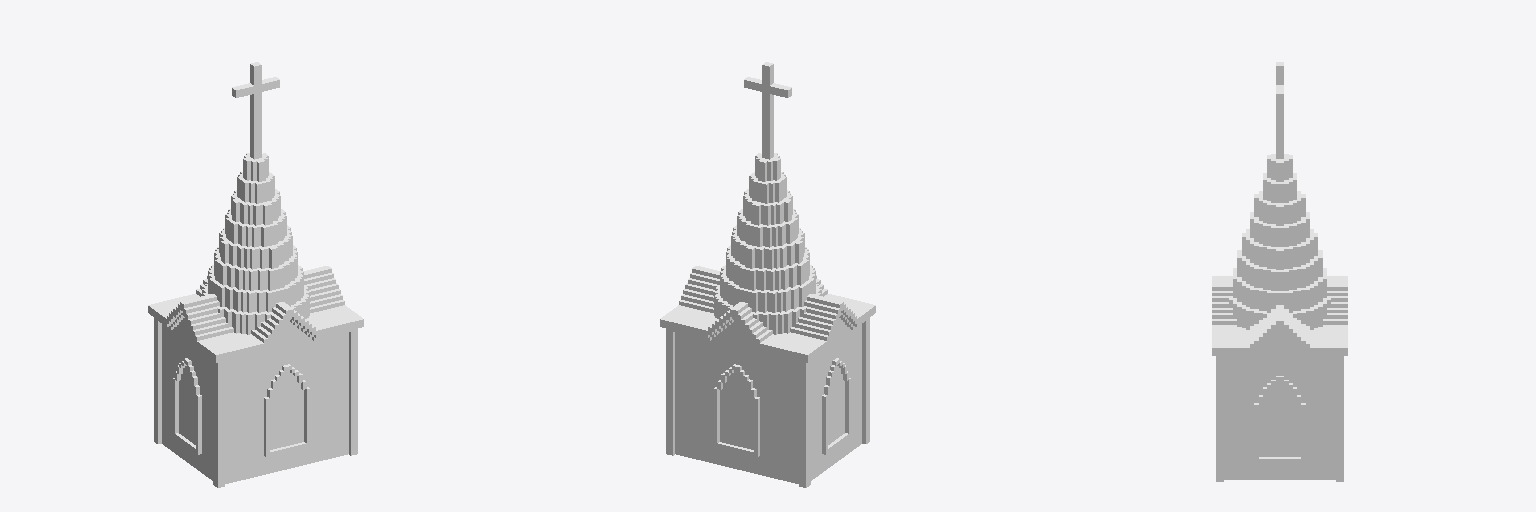
The model's file is Church1-1.obj.
3 views of the same model, side by side, from view 1: azimuth 30°, elevation 25°; view 2: azimuth 150°, elevation 25°; view 3: azimuth 270°, elevation 25° (orthographic).
Visible parts, largest first — view 1: object 1; view 2: object 1; view 3: object 1.
Part boxes in pixels (left/top/right/bottom): object 1: left=148, top=62, right=363, bottom=487; object 1: left=660, top=62, right=875, bottom=487; object 1: left=1212, top=62, right=1347, bottom=481.
Bounding box in the file's own units: 4 × 9.9 × 3.2.